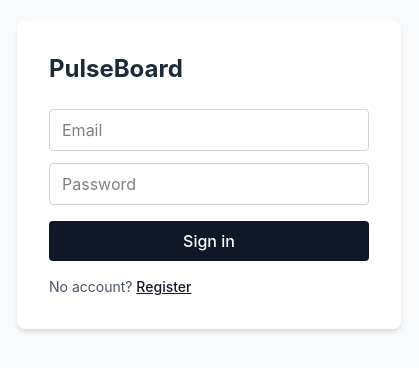
Login page › shows an error message when login fails
Type "lucas@test.com" into the field with placeholder "Email" at [209, 130], box [49,109,369,151]
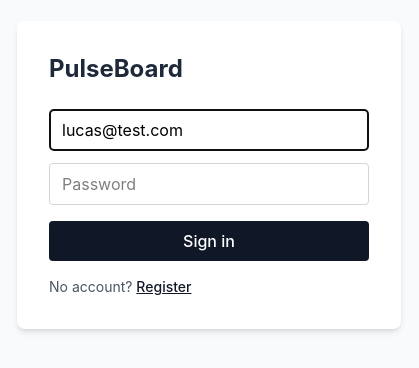
Type "wrong-password" into the password field with placeholder "Password" at [209, 184], box [49,163,369,205]
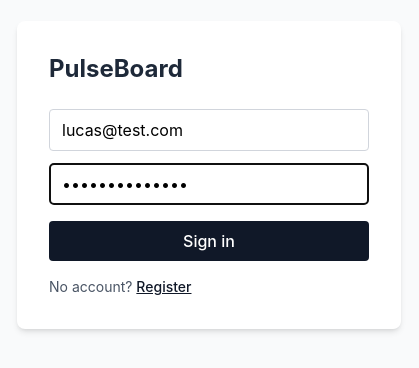
Click the button "Sign in" at [209, 241], box [49,221,369,261]
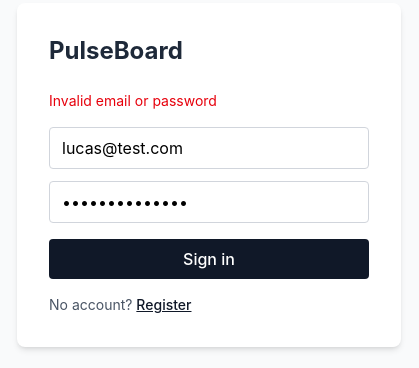
Expected: the text "Invalid email or password" is shown, [49,92,217,109]
